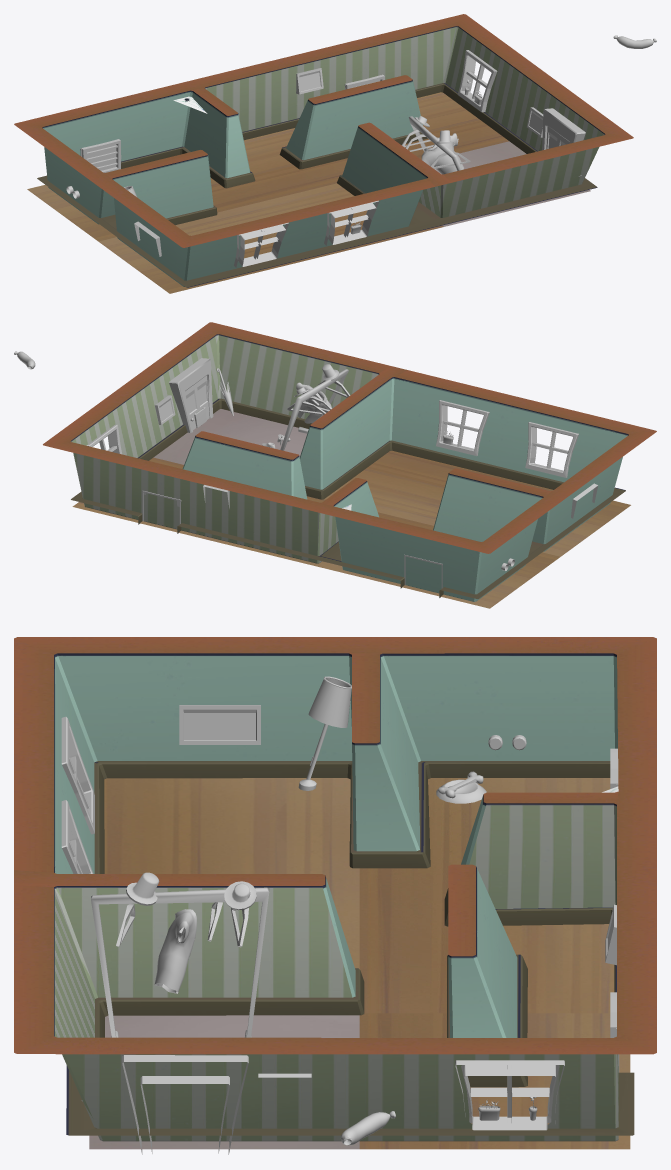
The model's file is scen_level_2.fbx.
3 renders of one model, top to bottom at view 1: azimuth 30°, elevation 25°; view 2: azimuth 150°, elevation 25°; view 3: azimuth 270°, elevation 25°, orthographic. The views are drawn at different scales.
Visible parts, largest first — view 1: room, pic, EPIC, grid.001; view 2: room, pic, EPIC; view 3: room, pic, EPIC, props_Anton, sosiska.
Part boxes in pixels (x1,y1,x2,y2): room: [14, 14, 633, 293]; pic: [66, 50, 585, 267]; EPIC: [402, 116, 581, 177]; grid.001: [81, 139, 121, 172]; room: [43, 322, 656, 608]; pic: [86, 358, 598, 588]; EPIC: [216, 364, 350, 450]; room: [14, 637, 656, 1149]; pic: [61, 676, 619, 1154]; EPIC: [81, 872, 269, 1101]; props_Anton: [436, 771, 537, 1120]; sosiska: [341, 1111, 395, 1145].
Size of the model in its own units: 2842 by 410 by 1490.
